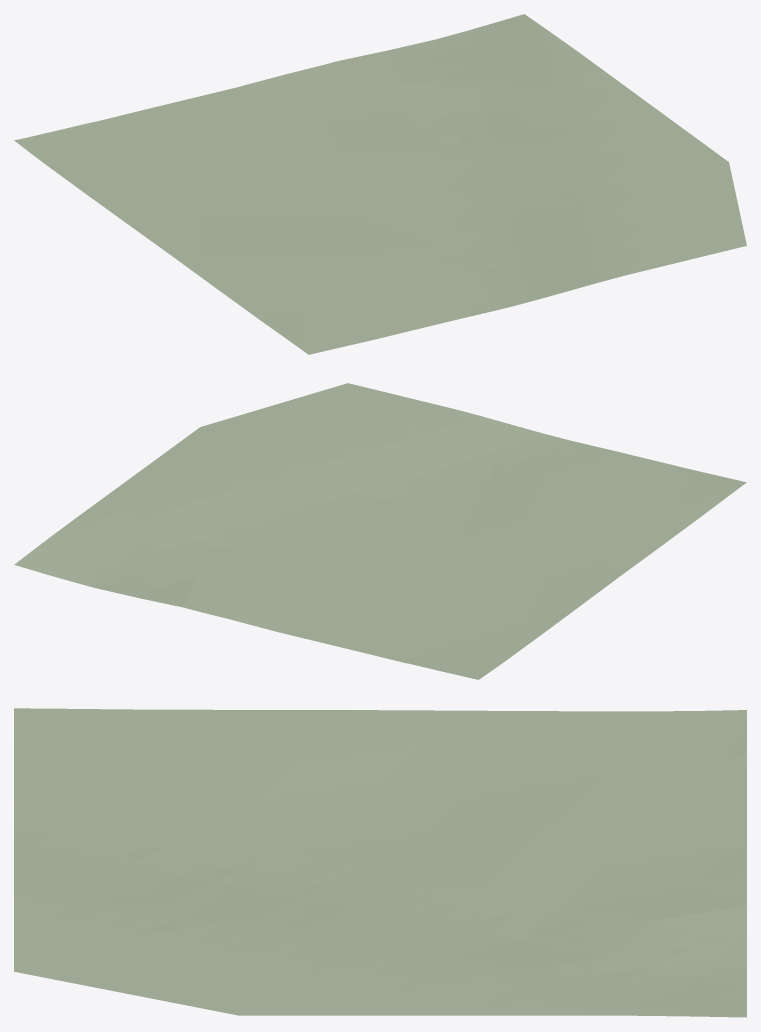
Rendered from SM_MPRR_Terrain_2_-3.fbx.
3 views of the same model, one above another, from view 1: azimuth 30°, elevation 25°; view 2: azimuth 150°, elevation 25°; view 3: azimuth 270°, elevation 25° (orthographic). The views are drawn at different scales.
Parts seen in each view (by area): view 1: SM_MPRR_Terrain_2_-3; view 2: SM_MPRR_Terrain_2_-3; view 3: SM_MPRR_Terrain_2_-3.
Part boxes in pixels (<box>): SM_MPRR_Terrain_2_-3: <box>14,14,746,354</box>; SM_MPRR_Terrain_2_-3: <box>14,383,746,679</box>; SM_MPRR_Terrain_2_-3: <box>14,708,746,1017</box>.
Size of the model in its own units: 15000 by 15000 by 153.
